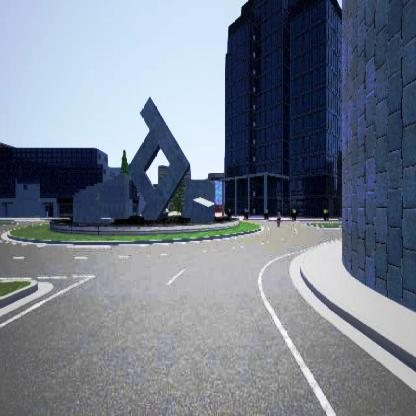bike: (274, 208, 281, 226)
